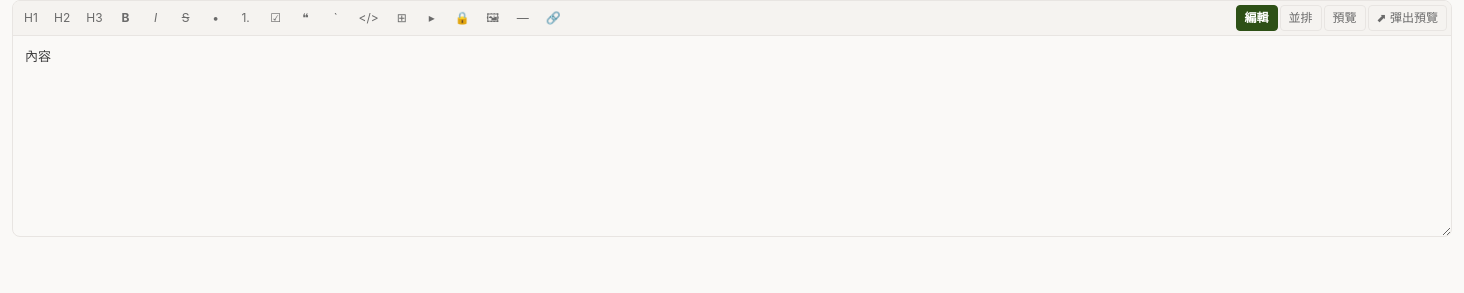
Test case: popoutAlwaysOnTop（A7~A11） › A10b: 按「⇲ 收回預覽」→ 呼叫 pipWindow.close() 並恢復未彈出狀態
The image size is (1464, 293).
Click the button "⬈ 彈出預覽": x=1407, y=18 [1368,5,1447,31]
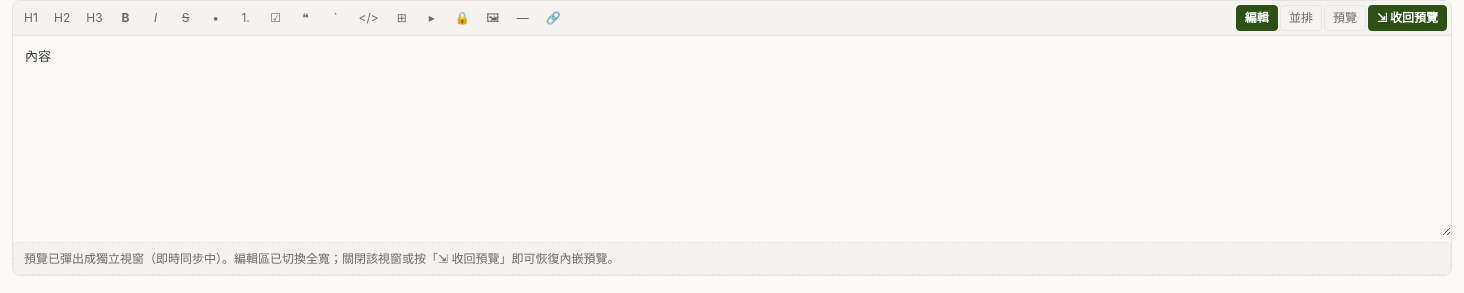
Click the button "⇲ 收回預覽": x=1407, y=18 [1368,5,1447,31]
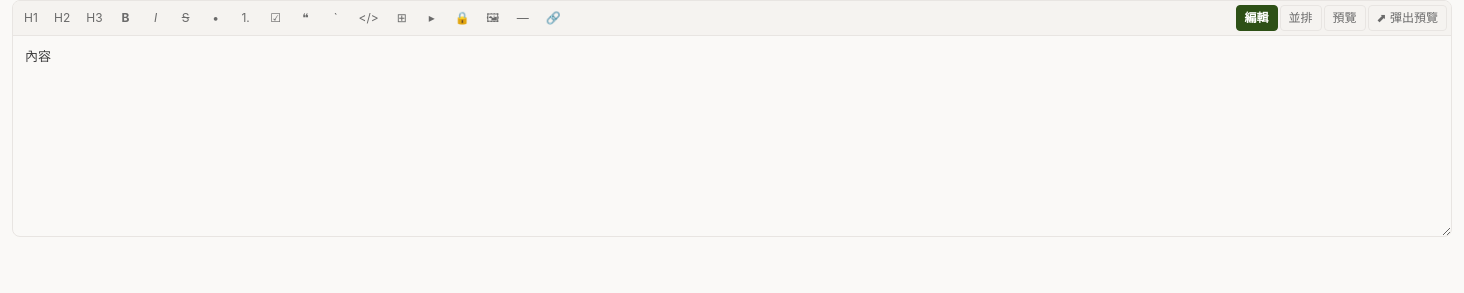
Now the button "⬈ 彈出預覽" is shown, box [1368,5,1447,31]
